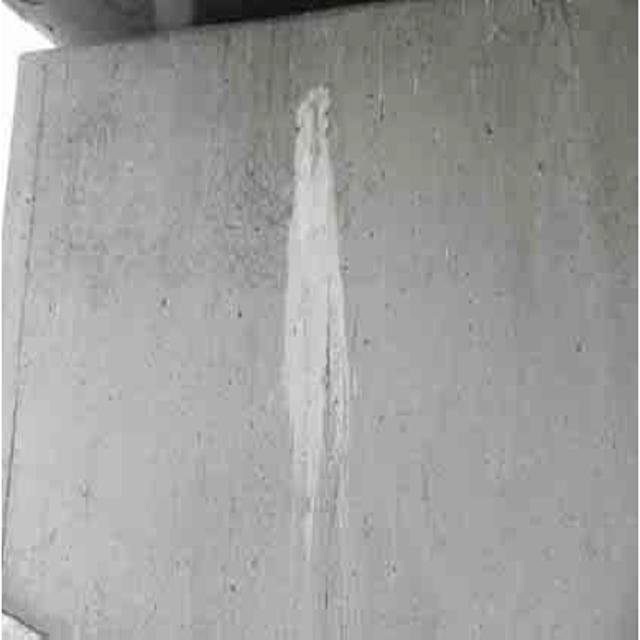freelime: (267, 80, 367, 493)
